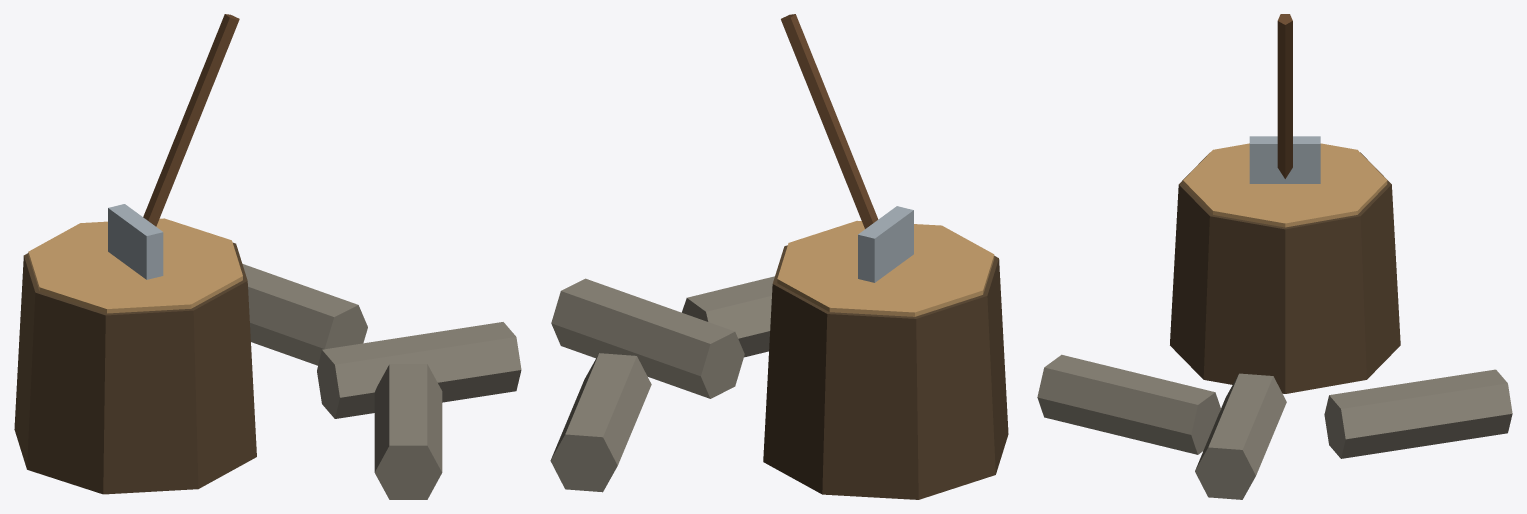
Rendered from GT_ChoppingBlock_01.glb.
3 renders of one model, left to right at view 1: azimuth 30°, elevation 25°; view 2: azimuth 150°, elevation 25°; view 3: azimuth 270°, elevation 25°, orthographic. The views are drawn at different scales.
Visible parts, largest first — view 1: GT_ChoppingBlock_01; view 2: GT_ChoppingBlock_01; view 3: GT_ChoppingBlock_01.
Boxes of the visible parts, x1,y1,x2,y2 form: GT_ChoppingBlock_01: [14, 14, 521, 499]; GT_ChoppingBlock_01: [550, 14, 1008, 499]; GT_ChoppingBlock_01: [1037, 14, 1512, 499].
Bounding box in the file's own units: 1.09 × 0.9254 × 1.07.
1 material, 1 textured.
